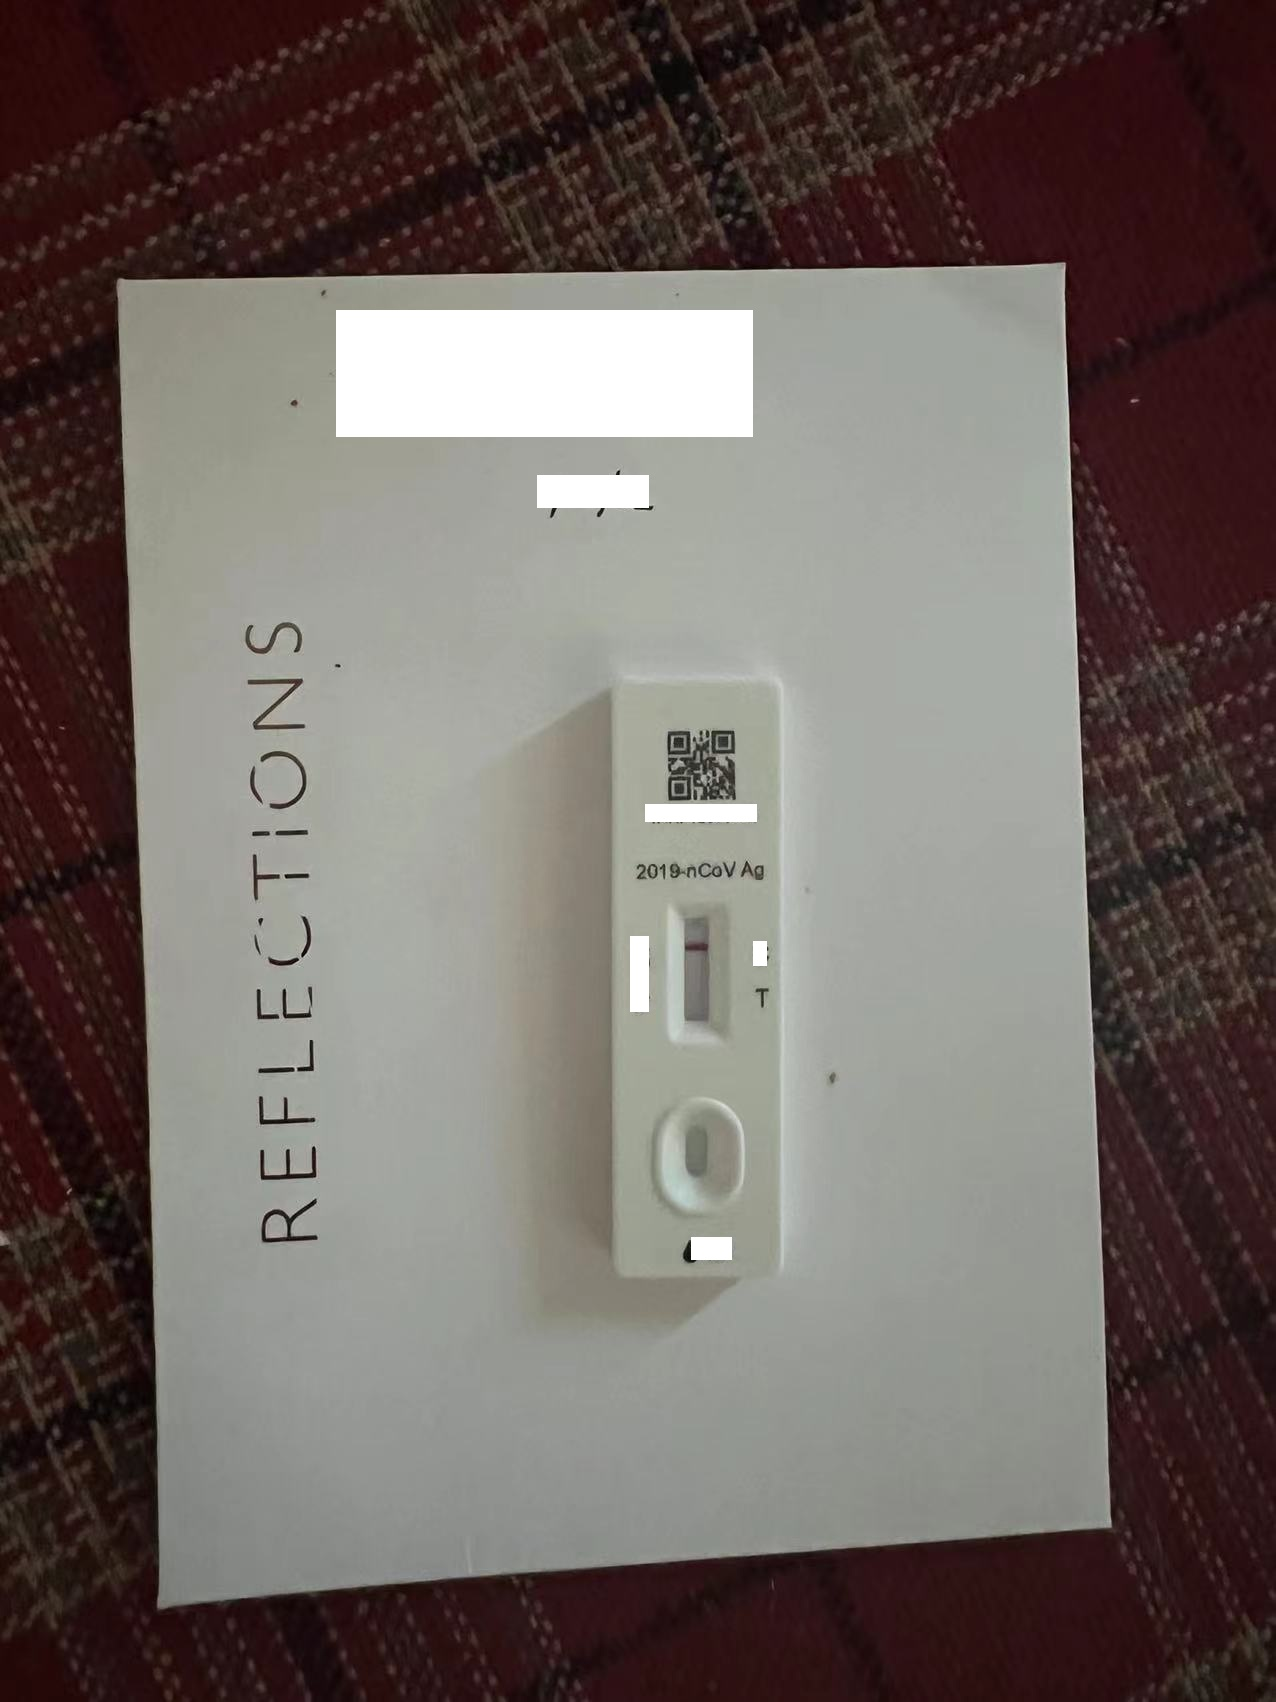negative: (669, 902, 726, 1047)
